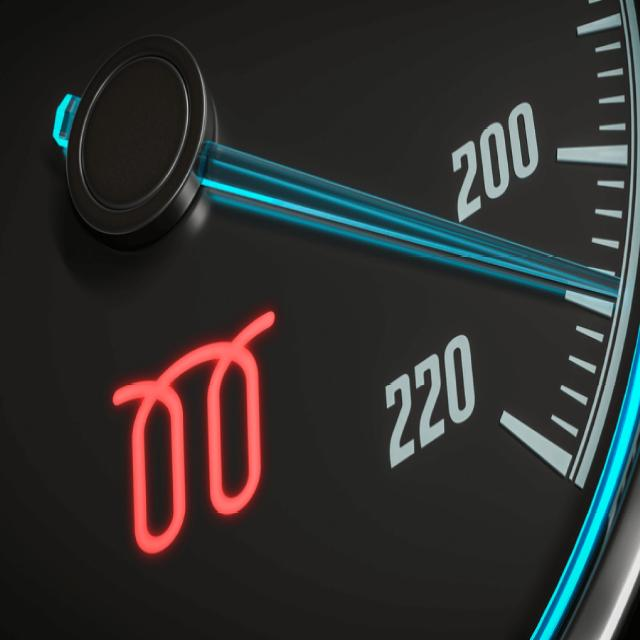kontrolka: (81, 293, 310, 570)
